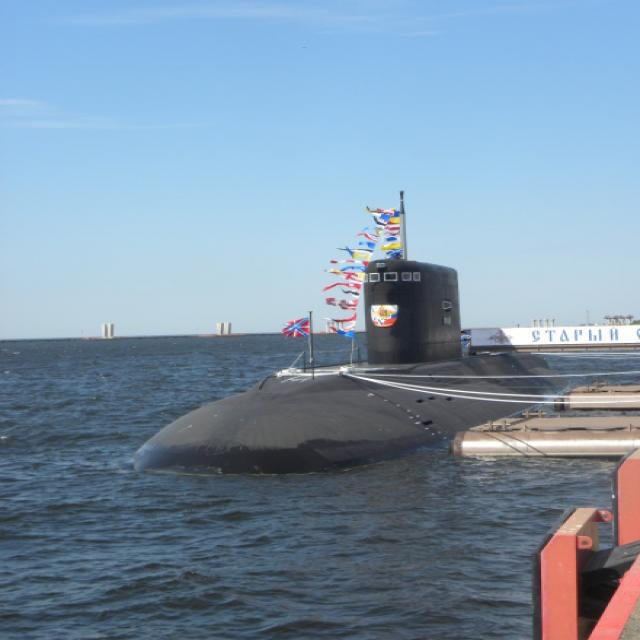submarine: (137, 194, 563, 472)
